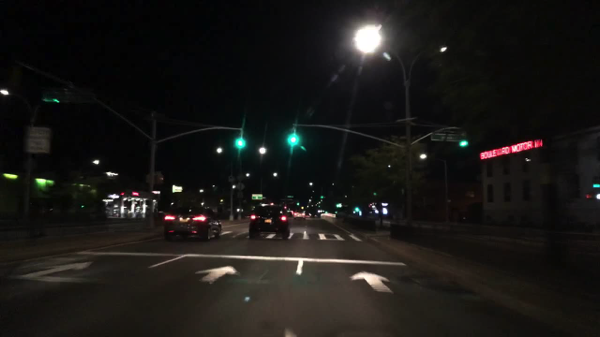car: (161, 203, 221, 241), (248, 203, 290, 240), (294, 210, 305, 220), (287, 210, 294, 215), (307, 213, 311, 217)
traffic light: (287, 134, 299, 147), (152, 171, 163, 183), (234, 139, 246, 149), (460, 140, 469, 146), (354, 207, 361, 213), (336, 204, 341, 209), (320, 196, 324, 200)
traffic sign: (24, 128, 49, 154), (44, 93, 102, 103), (432, 132, 469, 141), (236, 183, 245, 190), (228, 176, 234, 182), (152, 191, 160, 194), (286, 196, 294, 198)
